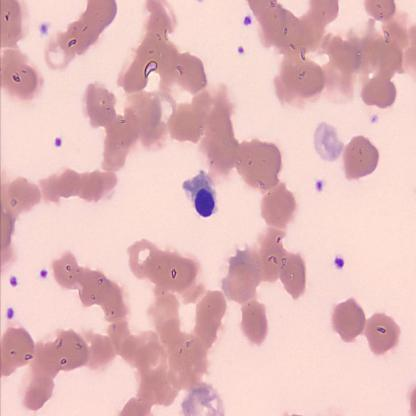NRC: (182, 168, 218, 219)
